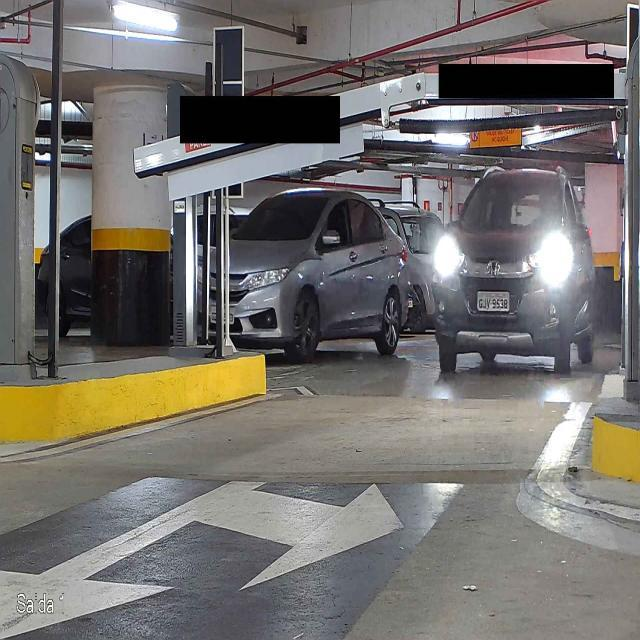old_plate: (475, 289, 511, 312)
